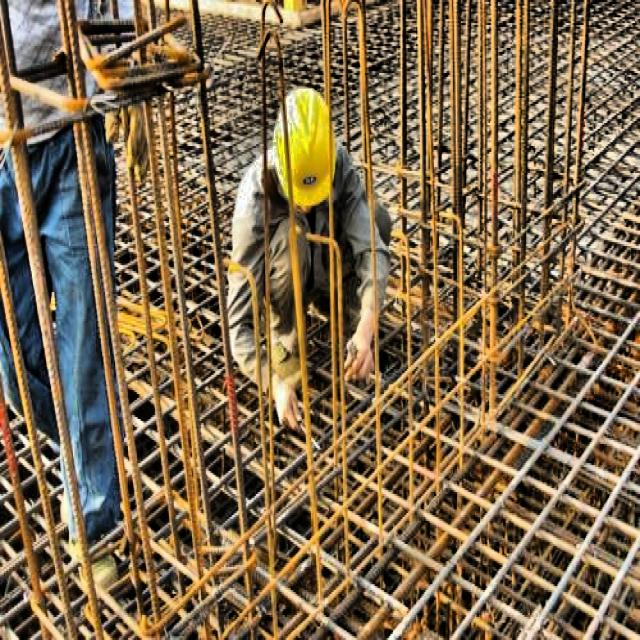helmet: (272, 86, 340, 204)
